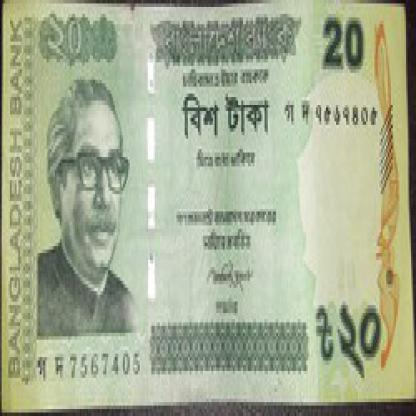Twenty: (316, 291, 390, 392), (42, 14, 128, 83), (313, 10, 379, 97), (180, 87, 276, 142)
